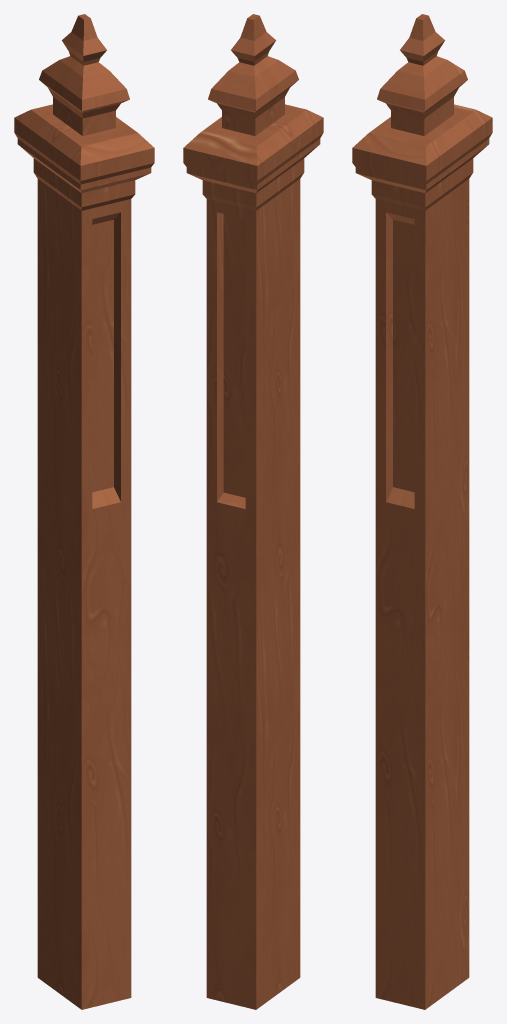
File: StationFramePillar_A_003.fbx
3 views of the same model, side by side, from view 1: azimuth 30°, elevation 25°; view 2: azimuth 150°, elevation 25°; view 3: azimuth 330°, elevation 25° (orthographic).
Parts seen in each view (by area): view 1: StationFramePillar_A_003; view 2: StationFramePillar_A_003; view 3: StationFramePillar_A_003.
Part boxes in pixels (box(x1,y1,x2,y2)): StationFramePillar_A_003: box(14, 14, 154, 1009); StationFramePillar_A_003: box(183, 14, 323, 1009); StationFramePillar_A_003: box(352, 14, 492, 1009).
Bounding box in the file's own units: 17.82 × 223 × 27.54.
1 material, 1 textured.
